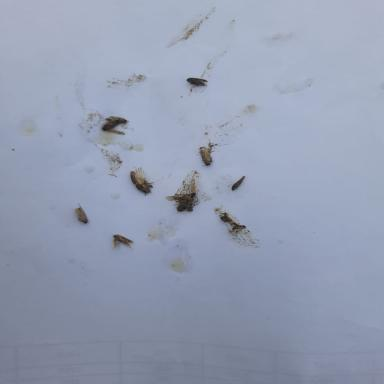pbw: (102, 121, 125, 135), (198, 144, 212, 167), (111, 234, 131, 248), (106, 115, 128, 127), (74, 202, 87, 222), (186, 77, 207, 86)
